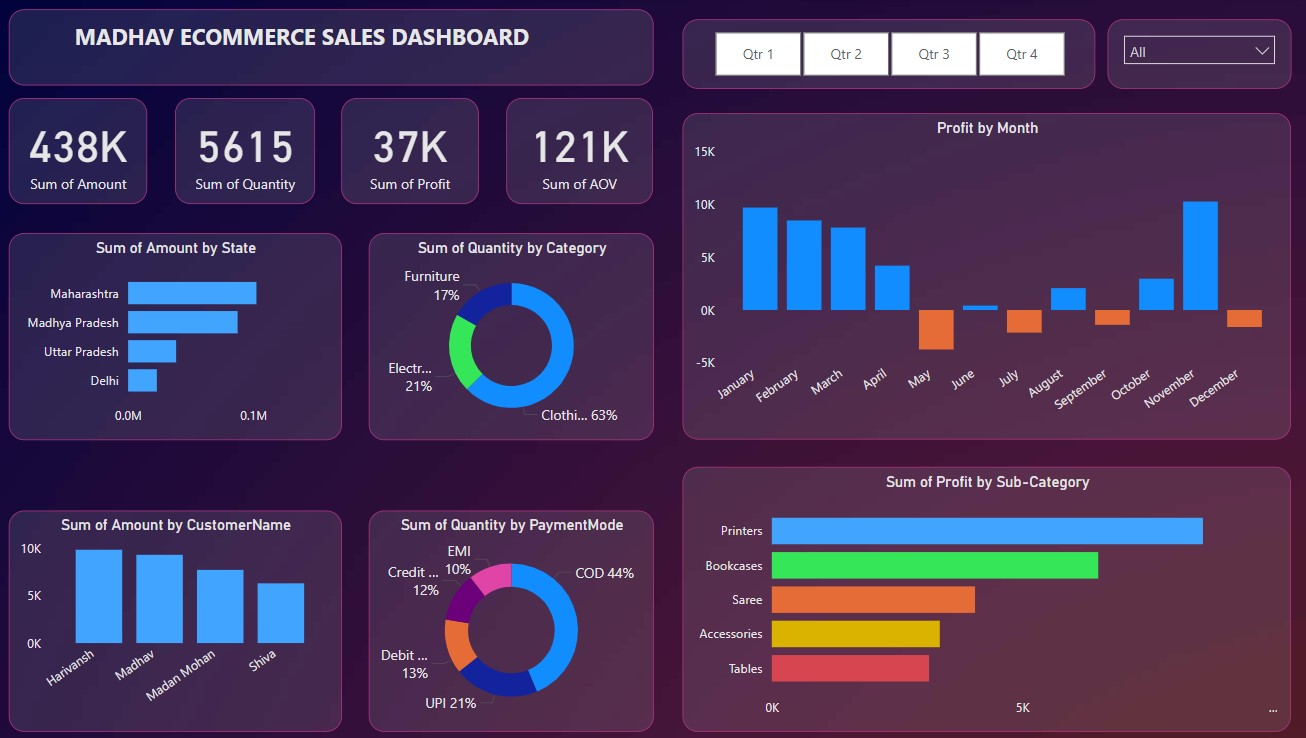

Layout of this report page (visuals, bound fields, positions):
{"tool":"powerbi","page":{"name":"Page 1","canvas":[1280,720],"ordinal":0},"visuals":[{"type":"textbox","box":[17.5,11.2,622.5,73.8],"z":0},{"type":"columnChart","title":" Profit by Month","fields":{"Y":["Details.Profit"],"Category":["Orders.Order Date.Variation.Date Hierarchy.Month"]},"box":[668.8,111.2,587.5,315],"z":1000},{"type":"barChart","fields":{"Category":["Details.Sub-Category"],"Y":["Details.Profit"]},"box":[668.8,452.5,587.5,256.2],"z":2000},{"type":"donutChart","fields":{"Category":["Details.Category"],"Y":["Details.Quantity"]},"box":[365,226.2,275,200],"z":3000},{"type":"donutChart","fields":{"Y":["Details.Quantity"],"Category":["Details.PaymentMode"]},"box":[365,495,275,213.8],"z":4000},{"type":"card","fields":{"Values":["Details.Amount"]},"box":[17.5,96.2,133.8,102.5],"z":5000},{"type":"card","fields":{"Values":["Details.Quantity"]},"box":[178.8,96.2,135,102.5],"z":6000},{"type":"card","fields":{"Values":["Details.Profit"]},"box":[338.8,96.2,132.5,102.5],"z":7000},{"type":"card","fields":{"Values":["Details.AOV"]},"box":[498.8,96.2,141.2,102.5],"z":8000},{"type":"barChart","fields":{"Category":["Orders.State"],"Y":["Details.Amount"]},"box":[17.5,226.2,321.2,200],"z":9000},{"type":"columnChart","fields":{"Category":["Orders.CustomerName"],"Y":["Details.Amount"]},"box":[17.5,495,321.2,213.8],"z":10000},{"type":"slicer","fields":{"Values":["Orders.Order Date.Variation.Date Hierarchy.Quarter"]},"box":[668.8,20,398.8,67.5],"z":11000},{"type":"slicer","fields":{"Values":["Orders.State"]},"box":[1078.8,20,177.5,67.5],"z":12000}]}

Visuals, with their boxes in screenshot pixels (x1, y1, x2, y2), scaled from the page's 1280x720 canvas onto the 1306x738 screenshot:
textbox: {"x1": 18, "y1": 11, "x2": 653, "y2": 87}
" Profit by Month" columnChart: {"x1": 682, "y1": 114, "x2": 1282, "y2": 437}
barChart - Details.Sub-Category x Details.Profit: {"x1": 682, "y1": 464, "x2": 1282, "y2": 726}
donutChart - Details.Category x Details.Quantity: {"x1": 372, "y1": 232, "x2": 653, "y2": 437}
donutChart - Details.Quantity x Details.PaymentMode: {"x1": 372, "y1": 507, "x2": 653, "y2": 727}
card - Details.Amount: {"x1": 18, "y1": 99, "x2": 154, "y2": 204}
card - Details.Quantity: {"x1": 182, "y1": 99, "x2": 320, "y2": 204}
card - Details.Profit: {"x1": 346, "y1": 99, "x2": 481, "y2": 204}
card - Details.AOV: {"x1": 509, "y1": 99, "x2": 653, "y2": 204}
barChart - Orders.State x Details.Amount: {"x1": 18, "y1": 232, "x2": 346, "y2": 437}
columnChart - Orders.CustomerName x Details.Amount: {"x1": 18, "y1": 507, "x2": 346, "y2": 727}
slicer - Orders.Order Date.Variation.Date Hierarchy.Quarter: {"x1": 682, "y1": 20, "x2": 1089, "y2": 90}
slicer - Orders.State: {"x1": 1101, "y1": 20, "x2": 1282, "y2": 90}
